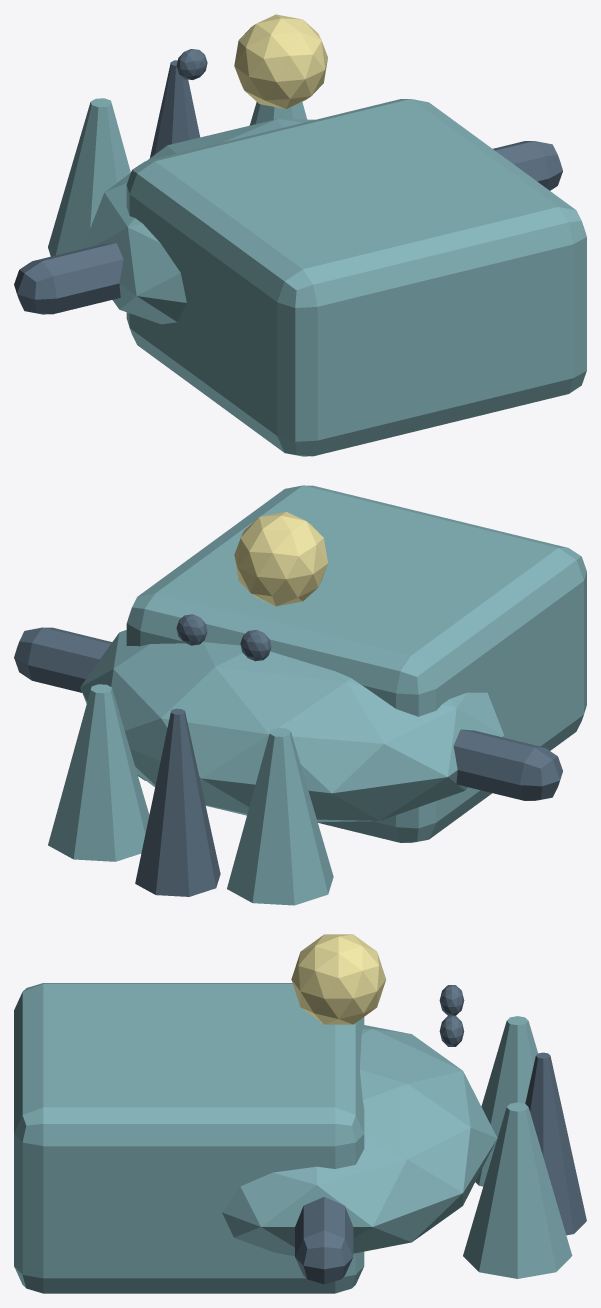
Rendered from bronzong.glb.
3 renders of one model, top to bottom at view 1: azimuth 30°, elevation 25°; view 2: azimuth 150°, elevation 25°; view 3: azimuth 270°, elevation 25°, orthographic.
Parts seen in each view (by area): view 1: bell, body, eye, crownL, armL, antenna, armR, crownR, eye.001; view 2: bell, body, crownL, crownR, antenna, eye, armL, armR, eye.001, eye.002; view 3: bell, body, crownR, eye, antenna, armR, crownL, eye.002, eye.001.
Boxes of the visible parts, x1=… form: bell: x1=126, y1=99, x2=586, y2=456; body: x1=82, y1=119, x2=314, y2=324; eye: x1=234, y1=14, x2=327, y2=109; crownL: x1=48, y1=98, x2=130, y2=256; armL: x1=14, y1=243, x2=123, y2=314; antenna: x1=150, y1=60, x2=199, y2=157; armR: x1=493, y1=141, x2=562, y2=190; crownR: x1=249, y1=102, x2=307, y2=125; eye.001: x1=176, y1=49, x2=207, y2=79; bell: x1=126, y1=485, x2=586, y2=842; body: x1=80, y1=630, x2=504, y2=822; crownL: x1=227, y1=728, x2=333, y2=905; crownR: x1=48, y1=684, x2=149, y2=861; antenna: x1=135, y1=708, x2=220, y2=896; eye: x1=234, y1=511, x2=327, y2=606; armL: x1=453, y1=729, x2=562, y2=800; armR: x1=14, y1=627, x2=111, y2=692; eye.001: x1=240, y1=630, x2=271, y2=661; eye.002: x1=176, y1=614, x2=207, y2=645; bell: x1=14, y1=983, x2=364, y2=1293; body: x1=222, y1=1025, x2=497, y2=1256; crownR: x1=463, y1=1102, x2=572, y2=1278; eye: x1=291, y1=934, x2=386, y2=1024; antenna: x1=525, y1=1052, x2=586, y2=1235; armR: x1=295, y1=1197, x2=353, y2=1284; crownL: x1=475, y1=1016, x2=537, y2=1186; eye.002: x1=439, y1=1015, x2=464, y2=1046; eye.001: x1=439, y1=985, x2=464, y2=1015.
Size of the model in its own units: 1.7 by 0.89 by 1.57.
